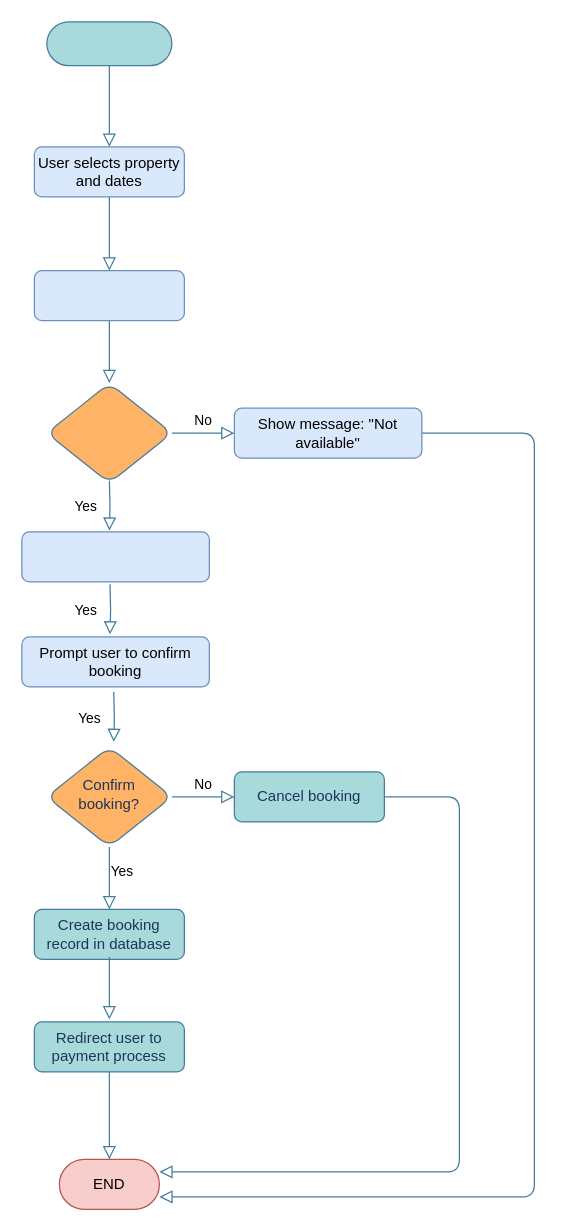
This 569x1231 diagram has some shape labels left out. The centre of each missing label's shape, as x and y in pixels:
"Calculate total price" belongs at (x=115, y=556).
"Is property available?" belongs at (x=109, y=432).
"Start: User initiates booking" belongs at (x=109, y=43).
"System checks property availability" belongs at (x=108, y=295).
